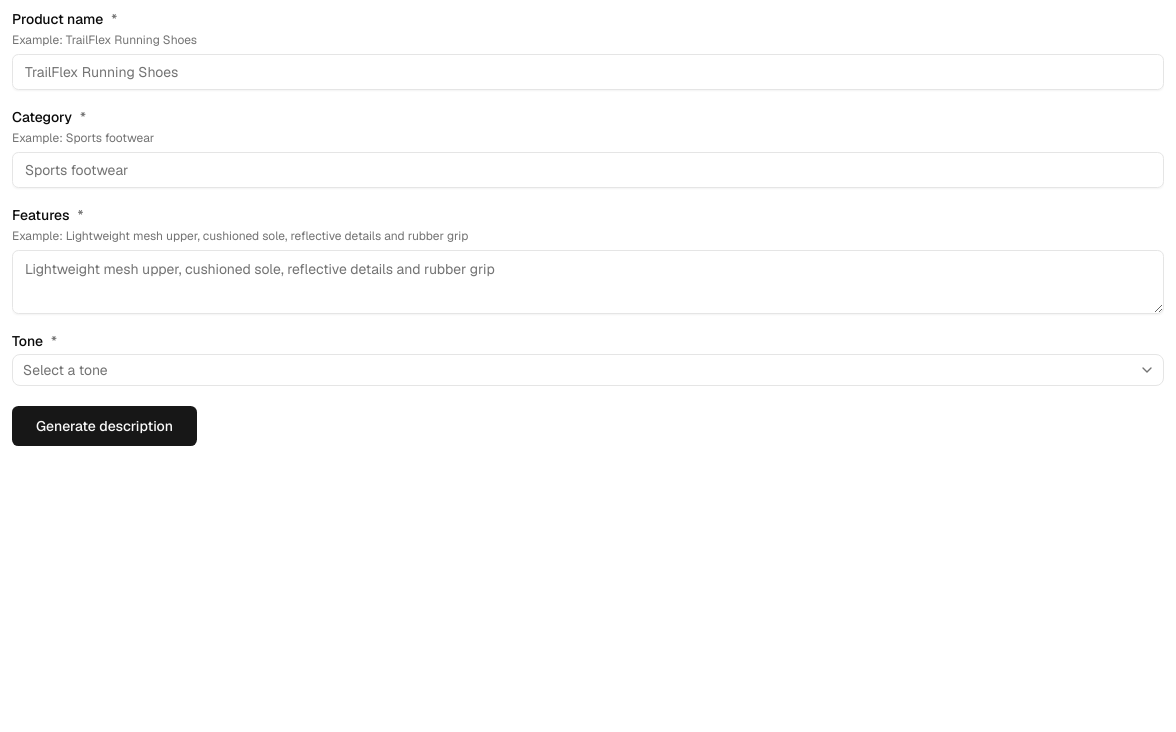
Scenario: ProductDescriptionForm › shows validation messages and does not submit when fields are empty
The width and height of the screenshot is (1176, 732).
Click the button "Generate description" at (104, 426), box [12,406,197,446]
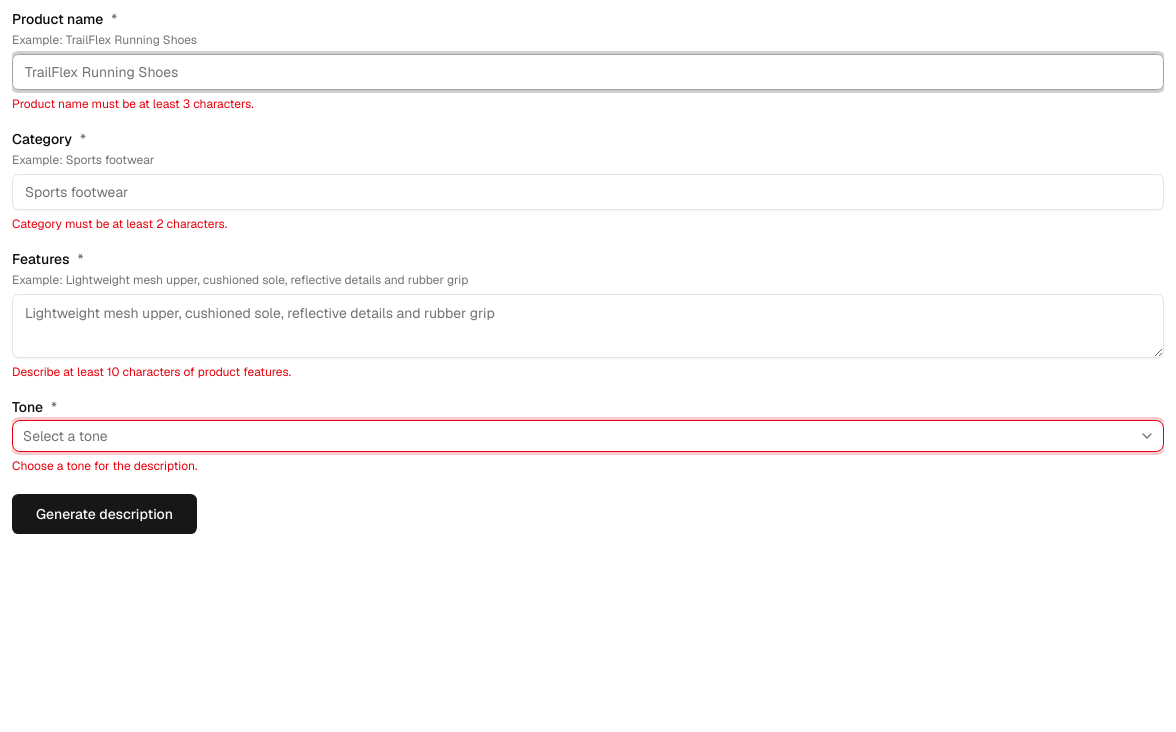
Expected: the text "Product name must be at least 3 characters." is shown, [12,96,254,112]
